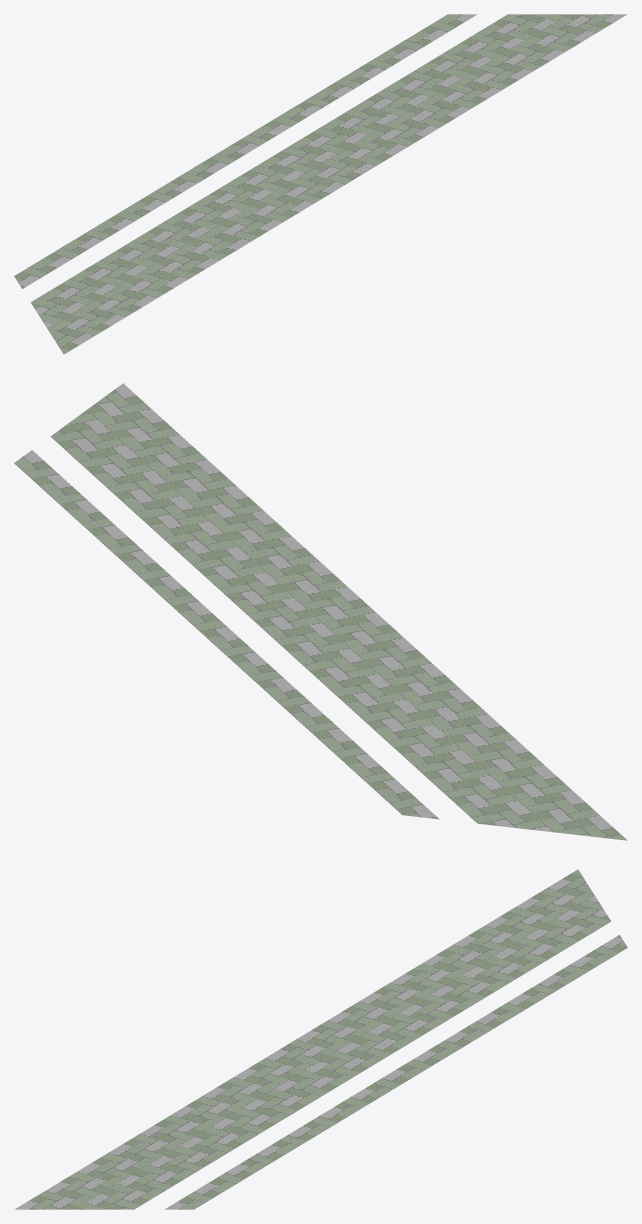
The model's file is kd_stage_13612f_4_47_bounded.glb.
The picture shows the model from 3 angles, top to bottom: view 1: azimuth 90°, elevation 25°; view 2: azimuth 150°, elevation 25°; view 3: azimuth 270°, elevation 25°; orthographic projection. The views are drawn at different scales.
Parts seen in each view (by area): view 1: kd_stage_13612f_4_47_bounded; view 2: kd_stage_13612f_4_47_bounded; view 3: kd_stage_13612f_4_47_bounded.
Part boxes in pixels (x1=…): kd_stage_13612f_4_47_bounded: x1=14, y1=14, x2=627, y2=354; kd_stage_13612f_4_47_bounded: x1=14, y1=383, x2=627, y2=840; kd_stage_13612f_4_47_bounded: x1=14, y1=869, x2=627, y2=1209.
Bounding box in the file's own units: 14.41 × 4.77e-07 × 10.98.
1 material, 1 textured.
